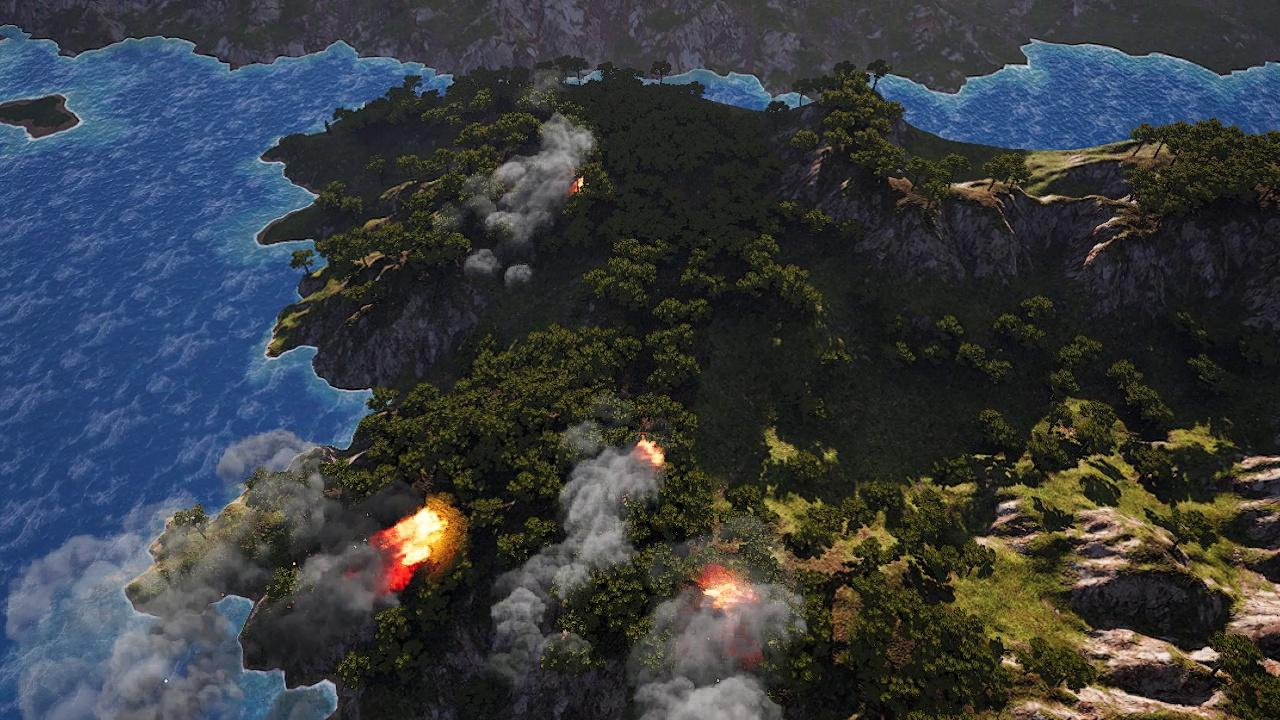fire: (382, 503, 452, 586), (695, 567, 755, 612), (635, 437, 666, 467), (566, 173, 586, 197)
smoke: (0, 430, 400, 720), (432, 419, 812, 715), (456, 116, 599, 288)
